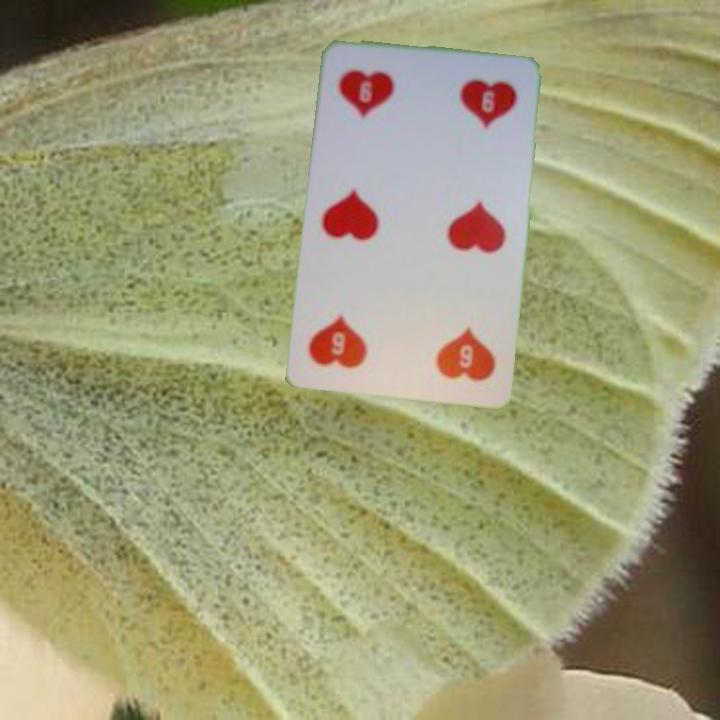h_6.png: (329, 52, 437, 148), (396, 297, 504, 393)
